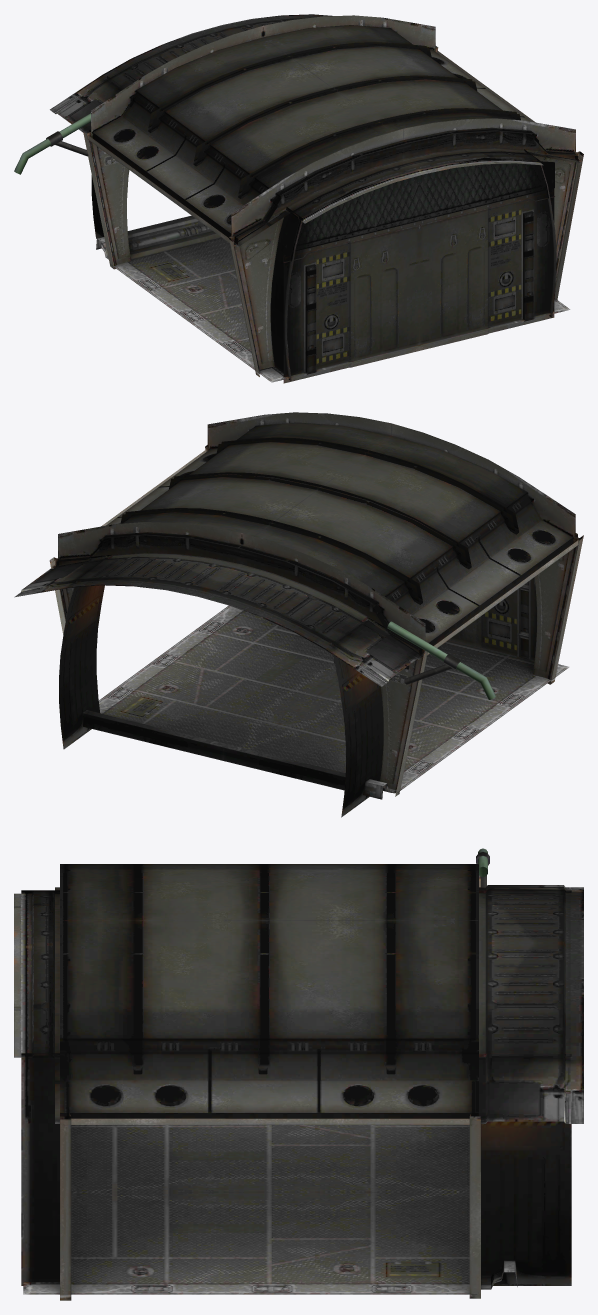
The model's file is Base_Heli_interier.fbx.
The picture shows the model from 3 angles, top to bottom: view 1: azimuth 30°, elevation 25°; view 2: azimuth 150°, elevation 25°; view 3: azimuth 270°, elevation 25°; orthographic projection. The views are drawn at different scales.
Parts seen in each view (by area): view 1: Base_Heli_interier, Base_Heli_interier1; view 2: Base_Heli_interier, Base_Heli_interier1; view 3: Base_Heli_interier.
Boxes of the visible parts, x1,y1,x2,y2 form: Base_Heli_interier: (50,14,583,383); Base_Heli_interier1: (14,113,90,174); Base_Heli_interier: (14,412,583,817); Base_Heli_interier1: (387,621,495,699); Base_Heli_interier: (14,864,583,1300).
Bounding box in the file's own units: 382 × 184 × 321.
